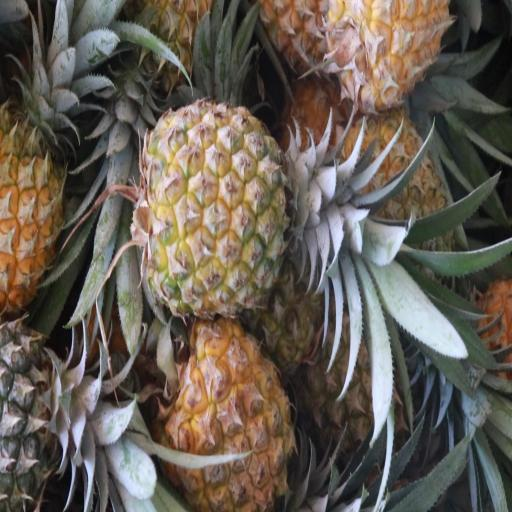------------------------------: (339, 122, 450, 286)
Pineapple - v8 v1: (143, 108, 288, 314), (162, 316, 292, 511), (0, 113, 73, 313), (329, 0, 448, 117)
